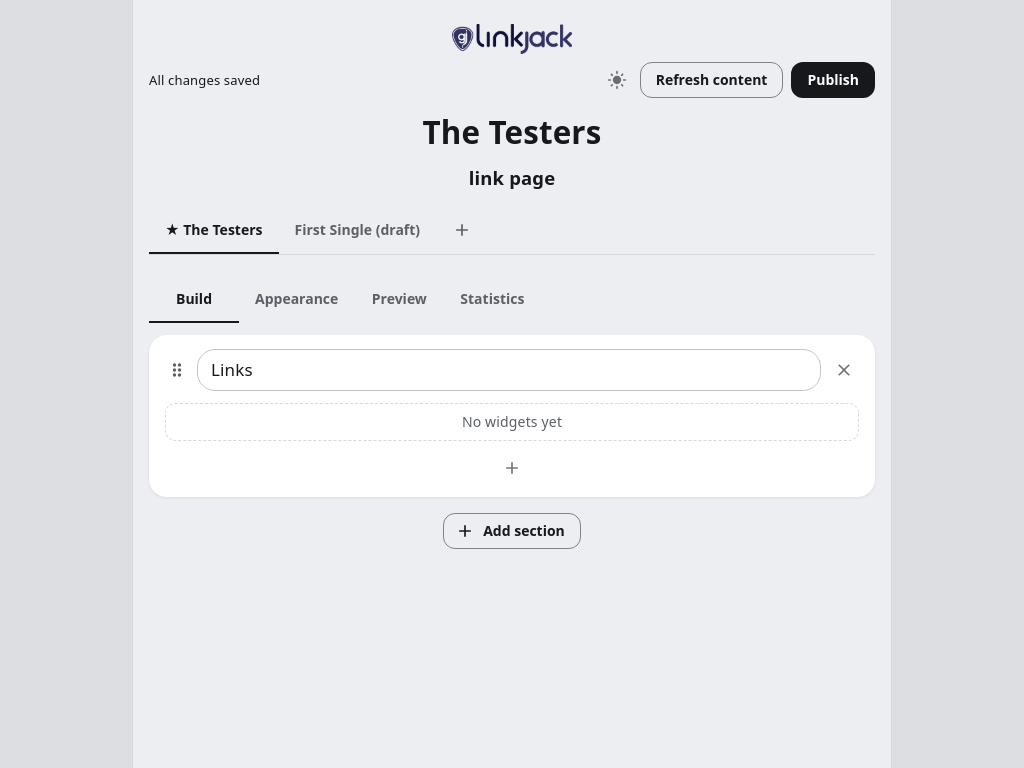
Test case: Editor workflow › creates a release page from the page switcher
The width and height of the screenshot is (1024, 768).
Click the tab named "New release page" at (462, 230), box [436,206,488,254]
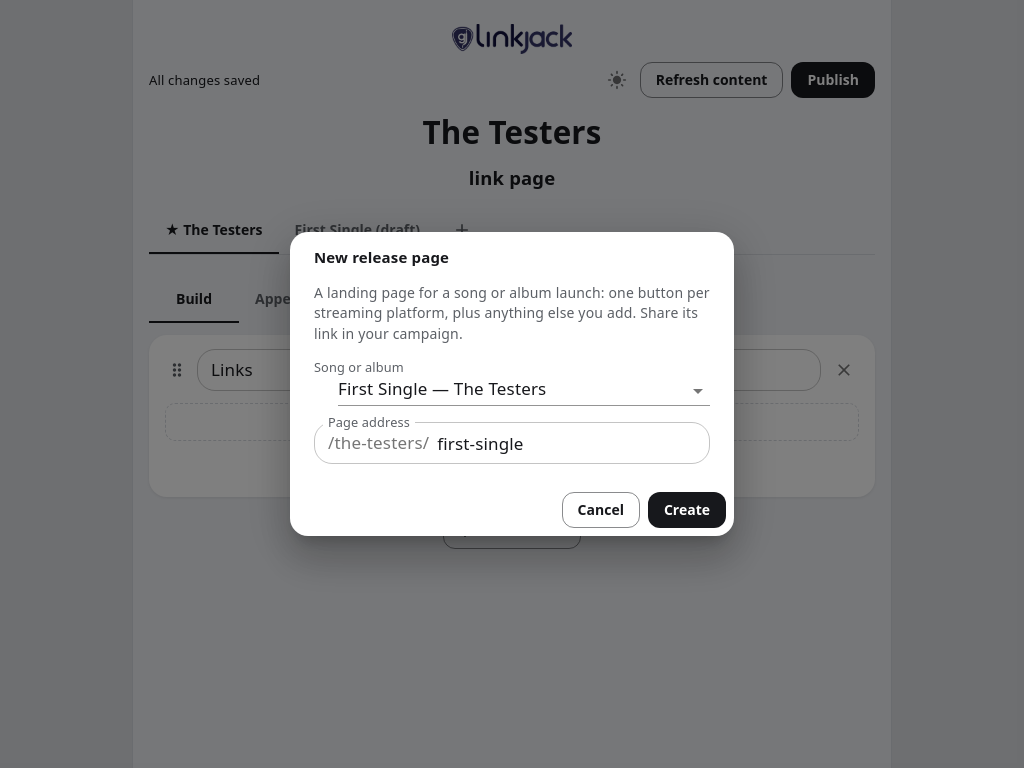
Click the button "Create" at (687, 510), box [648,492,726,528]
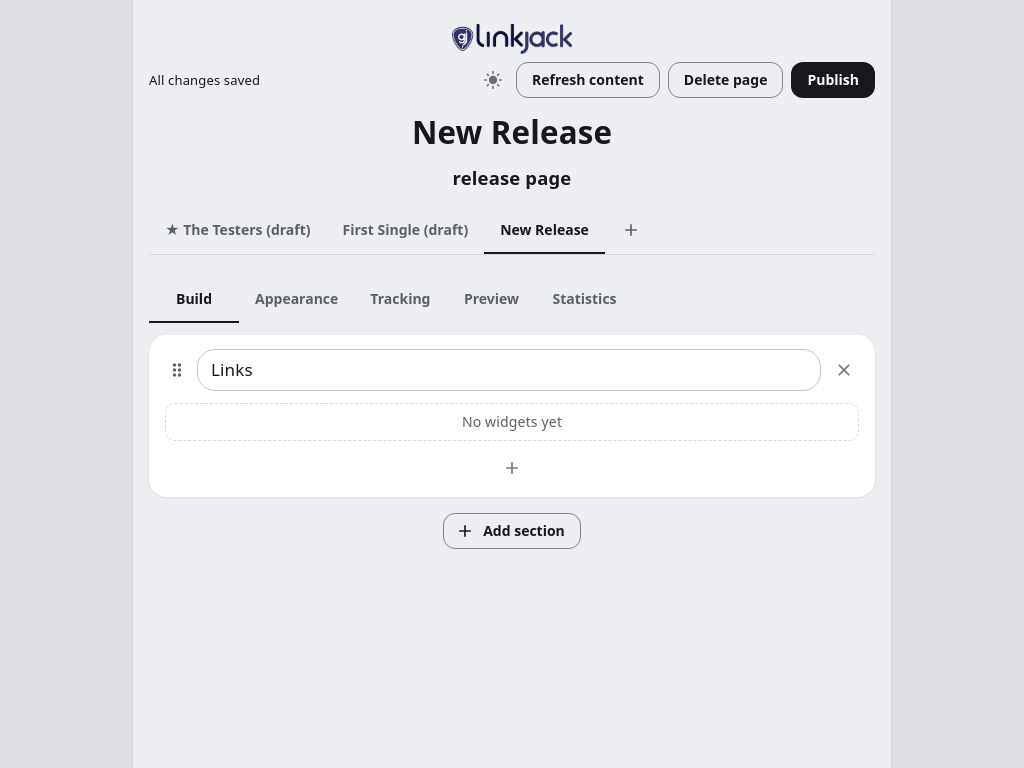
Expected: the heading "New Release" is shown, [412,111,612,153]
